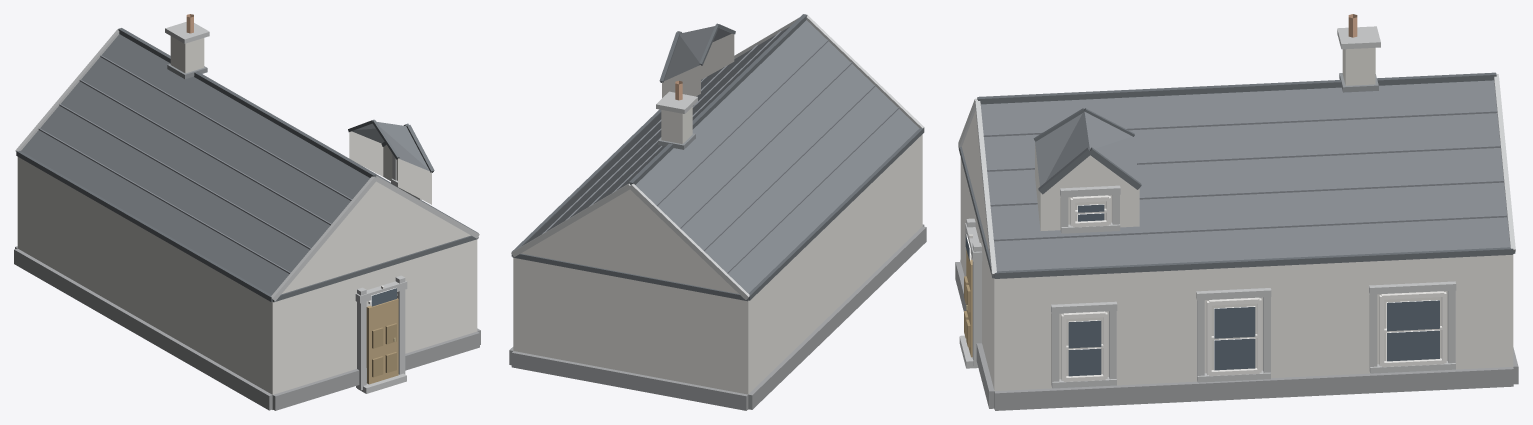
3 views of the same model, side by side, from view 1: azimuth 30°, elevation 25°; view 2: azimuth 150°, elevation 25°; view 3: azimuth 270°, elevation 25° (orthographic). The views are drawn at different scales.
Parts seen in each view (by area): view 1: harl, slate, plinth, slate_dk, stone_band, slate_lt, door_wood, chim_render, door_wood_p; view 2: harl, slate, plinth, slate_dk, slate_lt, stone_band, chim_render; view 3: slate, harl, stone_band, plinth, slate_dk, frame, slate_lt, window_glass_005, window_glass_006, window_glass_003, window_glass_004, chim_render (+2 smaller).
Boxes of the visible parts, x1,y1,x2,y2 form: harl: [17, 131, 477, 409]; slate: [21, 34, 429, 294]; plinth: [14, 246, 480, 410]; slate_dk: [16, 28, 478, 302]; stone_band: [15, 22, 479, 393]; slate_lt: [38, 55, 352, 273]; door_wood: [366, 298, 398, 384]; chim_render: [170, 36, 204, 73]; door_wood_p: [372, 323, 396, 377]; harl: [513, 34, 922, 409]; slate: [524, 20, 919, 293]; plinth: [509, 224, 926, 410]; slate_dk: [511, 14, 924, 301]; slate_lt: [542, 31, 898, 273]; stone_band: [511, 15, 924, 299]; chim_render: [661, 107, 692, 143]; slate: [980, 80, 1510, 271]; harl: [960, 111, 1513, 409]; stone_band: [958, 26, 1515, 388]; plinth: [955, 260, 1518, 410]; slate_dk: [959, 72, 1515, 278]; frame: [969, 195, 1446, 381]; slate_lt: [983, 110, 1507, 241]; window_glass_005: [1386, 330, 1439, 361]; window_glass_006: [1386, 300, 1439, 331]; window_glass_003: [1214, 338, 1255, 370]; window_glass_004: [1214, 306, 1255, 338]; chim_render: [1342, 48, 1375, 85].
Bounding box in the file's own units: 7.7 × 7.24 × 11.59.
